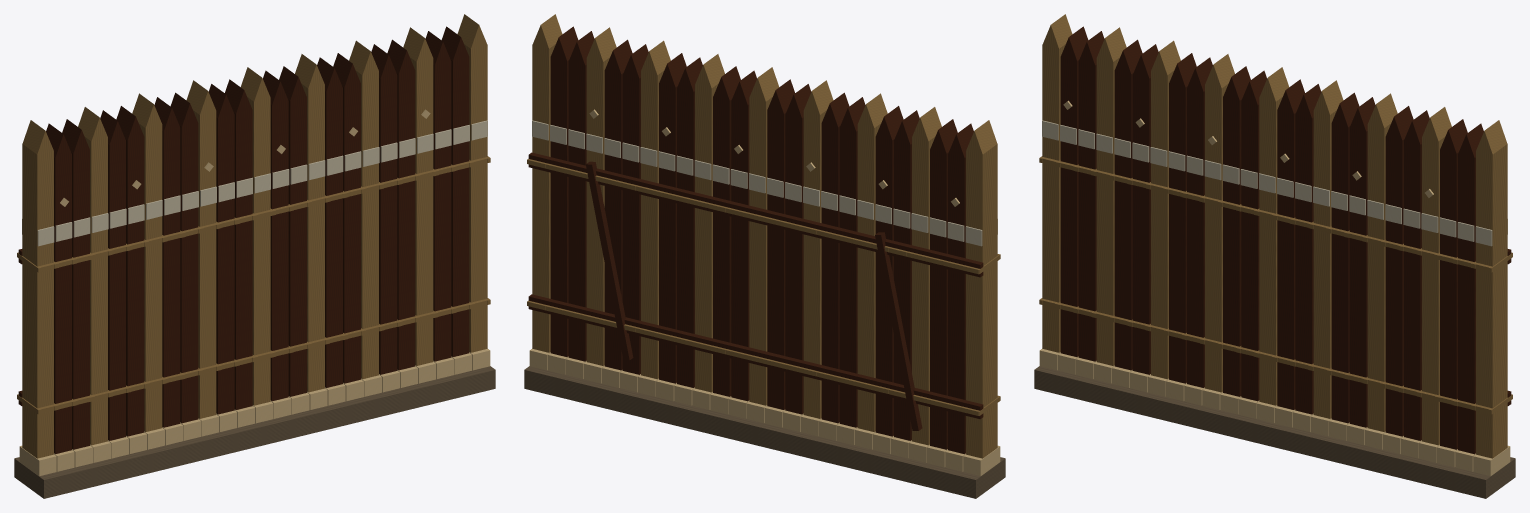
Rendered from Berber_Palisade_Age4_straight_6m.fbx.
3 renders of one model, left to right at view 1: azimuth 30°, elevation 25°; view 2: azimuth 150°, elevation 25°; view 3: azimuth 330°, elevation 25°, orthographic.
Parts seen in each view (by area): view 1: palm_split_post.019, palm_split_post.014, palm_split_post.016, palm_split_post.012, palm_split_post.009, palm_split_post.021, earth_seat.002, palm_split_post.018, palm_split_post.015, post_earth_socket.002, neutral_owner_band.002, front_lashing.002 (+1 smaller); view 2: palm_split_post.014, palm_split_post.019, palm_split_post.009, palm_split_post.012, palm_split_post.016, earth_seat.002, palm_split_post.018, palm_split_post.021, palm_split_post.015, continuous_rear_tie.002, post_earth_socket.002, neutral_owner_band.002 (+3 smaller); view 3: palm_split_post.012, palm_split_post.014, palm_split_post.019, palm_split_post.016, palm_split_post.009, palm_split_post.015, earth_seat.002, palm_split_post.018, palm_split_post.021, post_earth_socket.002, neutral_owner_band.002, front_lashing.002 (+1 smaller).
Boxes of the visible parts, x1=… form: palm_split_post.019: x1=154, y1=26, x2=469, y2=427; palm_split_post.014: x1=62, y1=31, x2=451, y2=449; palm_split_post.016: x1=100, y1=39, x2=415, y2=440; palm_split_post.012: x1=46, y1=53, x2=360, y2=454; palm_split_post.009: x1=22, y1=14, x2=487, y2=458; palm_split_post.021: x1=186, y1=27, x2=433, y2=418; earth_seat.002: x1=14, y1=366, x2=495, y2=498; palm_split_post.018: x1=132, y1=40, x2=378, y2=431; palm_split_post.015: x1=78, y1=54, x2=324, y2=445; post_earth_socket.002: x1=19, y1=349, x2=490, y2=476; neutral_owner_band.002: x1=22, y1=120, x2=487, y2=246; front_lashing.002: x1=37, y1=157, x2=489, y2=413; palm_split_post.014: x1=568, y1=31, x2=957, y2=449; palm_split_post.019: x1=550, y1=26, x2=865, y2=427; palm_split_post.009: x1=532, y1=14, x2=997, y2=458; palm_split_post.012: x1=659, y1=53, x2=973, y2=454; palm_split_post.016: x1=604, y1=39, x2=919, y2=440; earth_seat.002: x1=524, y1=366, x2=1005, y2=498; palm_split_post.018: x1=641, y1=40, x2=887, y2=431; palm_split_post.021: x1=586, y1=27, x2=833, y2=418; palm_split_post.015: x1=695, y1=54, x2=941, y2=445; continuous_rear_tie.002: x1=528, y1=152, x2=983, y2=419; post_earth_socket.002: x1=529, y1=349, x2=1000, y2=476; neutral_owner_band.002: x1=532, y1=120, x2=997, y2=246; palm_split_post.012: x1=1060, y1=26, x2=1375, y2=427; palm_split_post.014: x1=1078, y1=31, x2=1467, y2=449; palm_split_post.019: x1=1169, y1=53, x2=1483, y2=454; palm_split_post.016: x1=1114, y1=39, x2=1429, y2=440; palm_split_post.009: x1=1042, y1=14, x2=1507, y2=458; palm_split_post.015: x1=1096, y1=27, x2=1343, y2=418; earth_seat.002: x1=1034, y1=366, x2=1515, y2=498; palm_split_post.018: x1=1151, y1=40, x2=1397, y2=431; palm_split_post.021: x1=1205, y1=54, x2=1451, y2=445; post_earth_socket.002: x1=1039, y1=349, x2=1510, y2=476; neutral_owner_band.002: x1=1042, y1=120, x2=1507, y2=246; front_lashing.002: x1=1042, y1=157, x2=1492, y2=413.
Bounding box in the file's own units: 601 × 458 × 68.29.
Materials: 5 (5 with a texture image).
